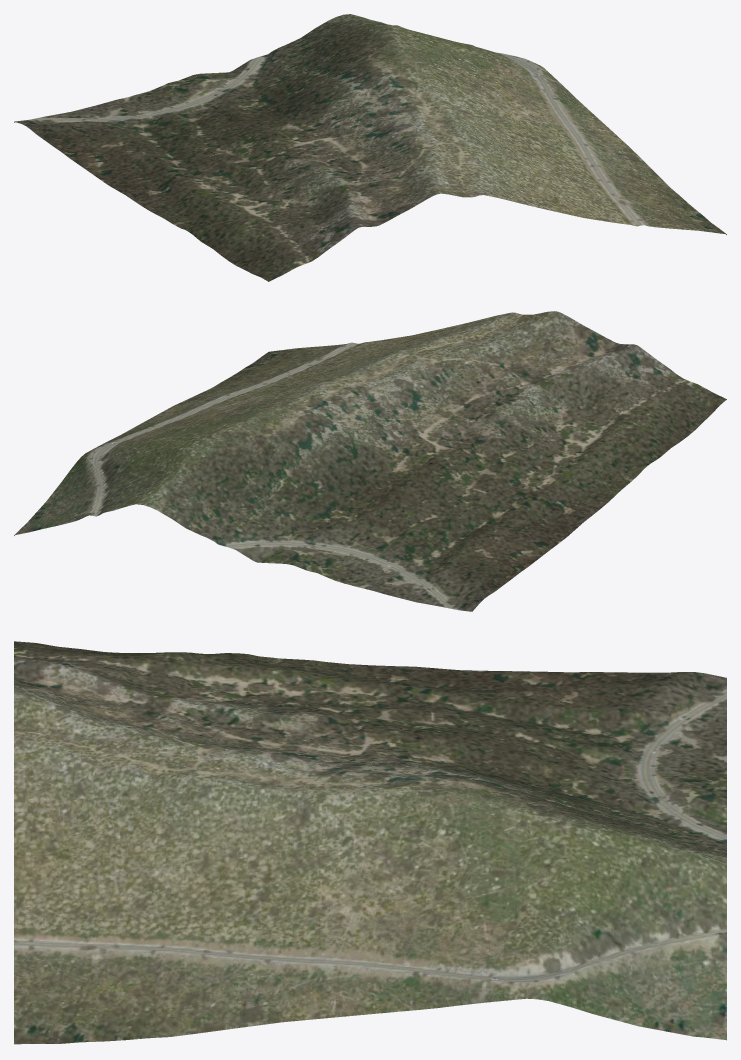
3 renders of one model, top to bottom at view 1: azimuth 30°, elevation 25°; view 2: azimuth 150°, elevation 25°; view 3: azimuth 270°, elevation 25°, orthographic. The views are drawn at different scales.
Size of the model in its own units: 500 by 116 by 481.
Materials: 1 (1 with a texture image).
